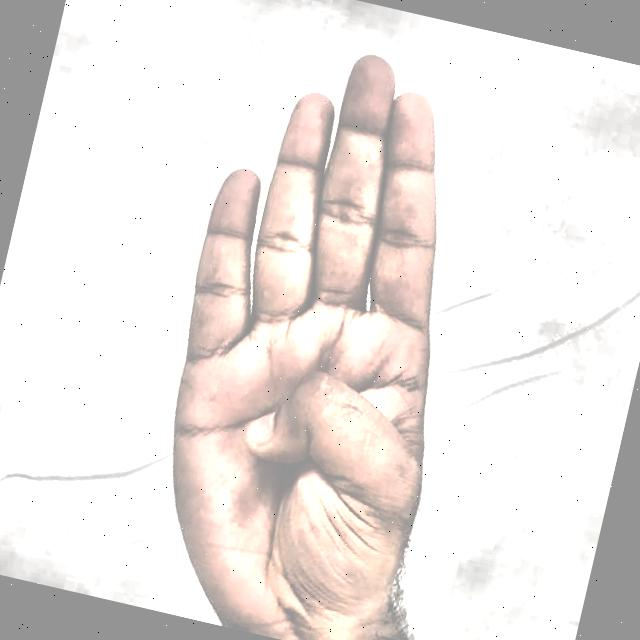Ba: (67, 0, 568, 640)
